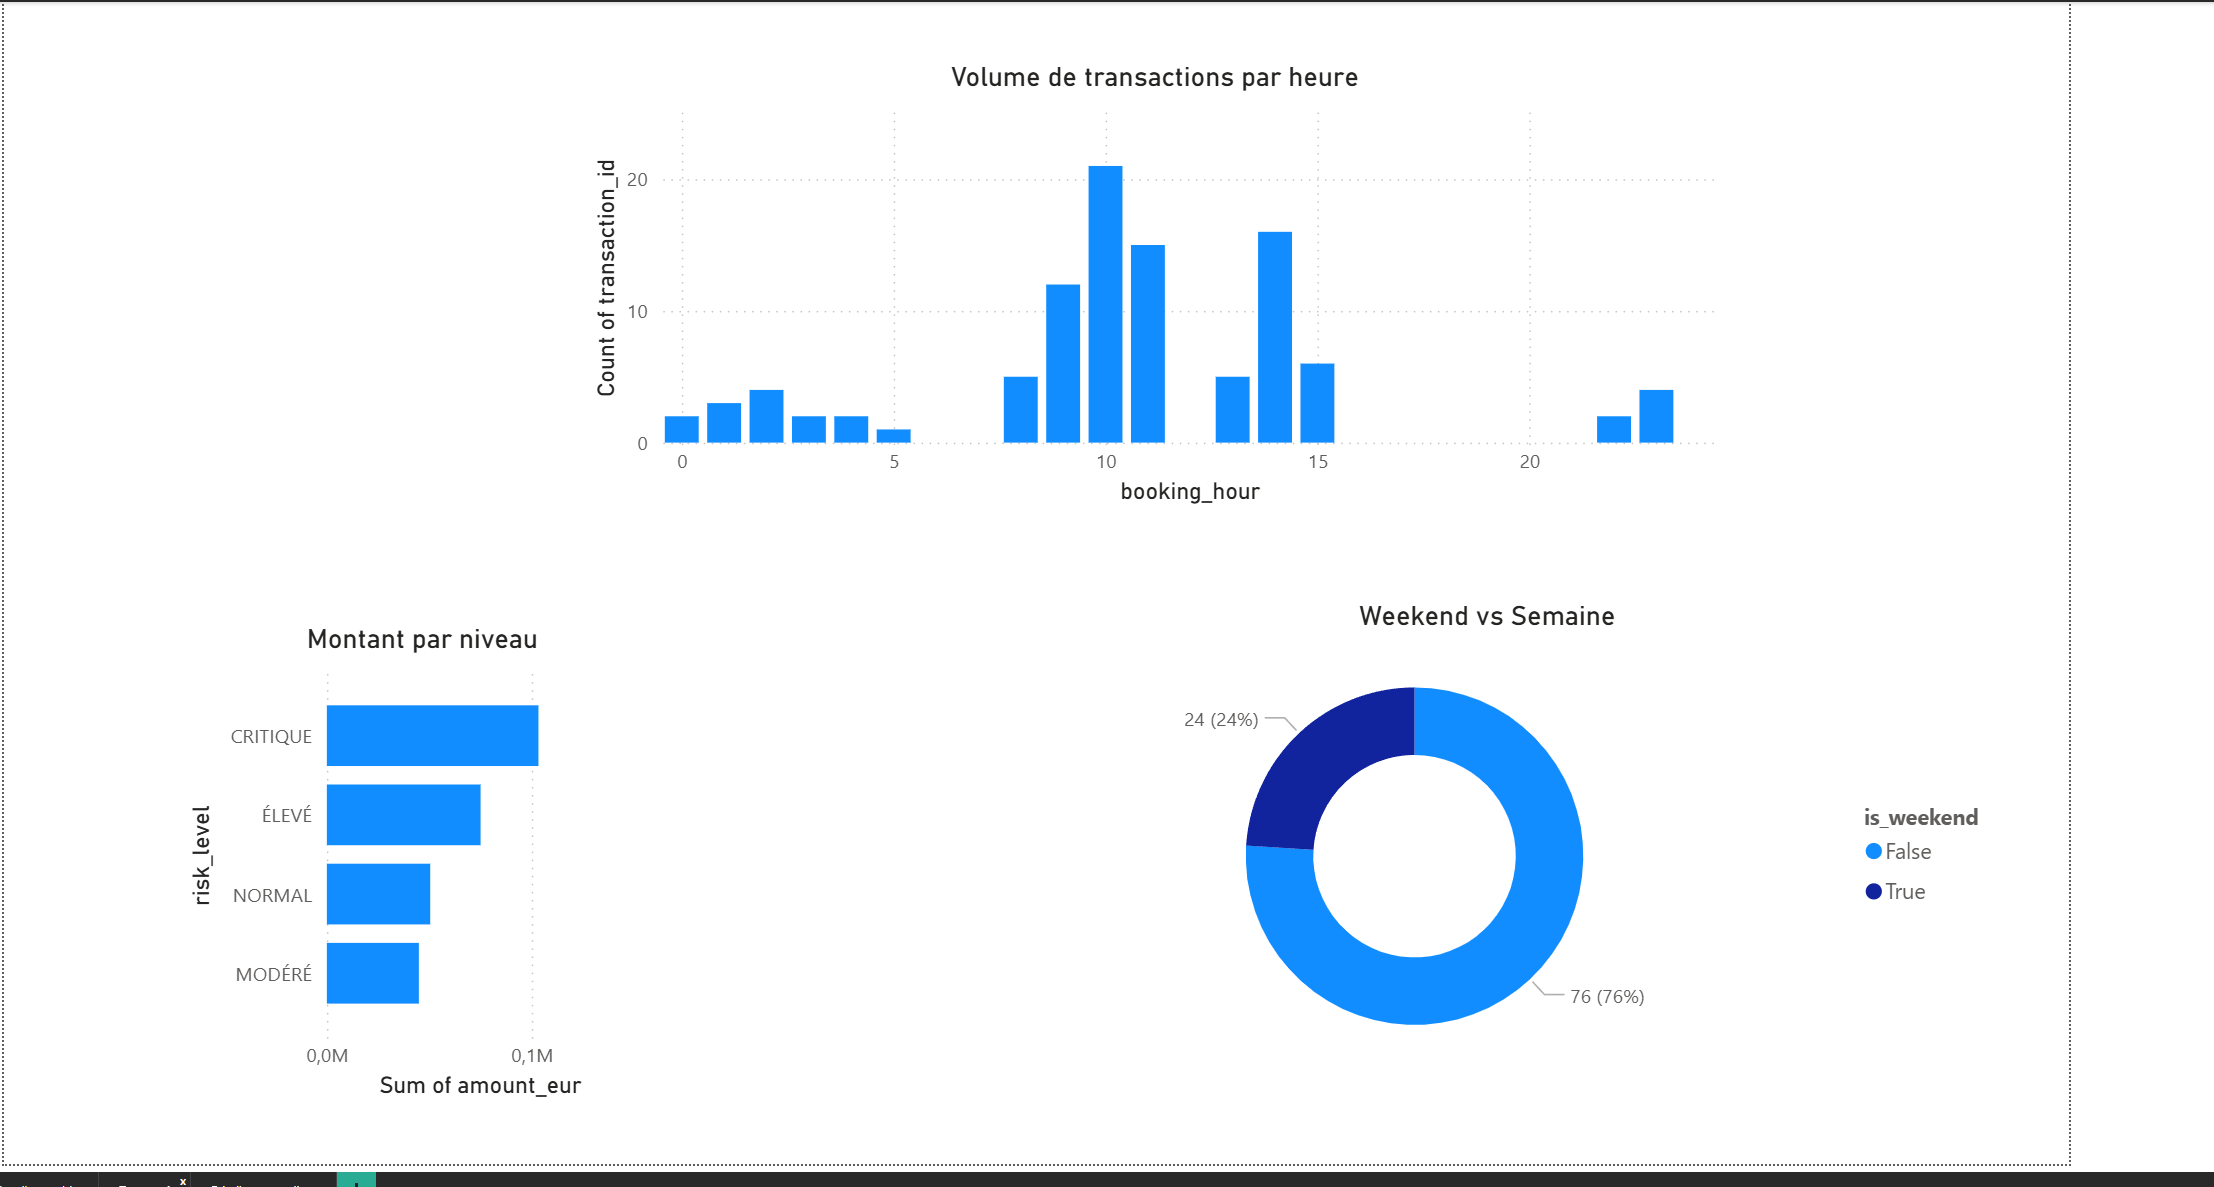

Layout of this report page (visuals, bound fields, positions):
{"tool":"powerbi","page":{"name":"Temporel","canvas":[1280,720],"ordinal":1},"visuals":[{"type":"clusteredColumnChart","title":"Volume de transactions par heure","fields":{"Category":["vw_risk_dashboard.booking_hour"],"Y":["CountNonNull(vw_risk_dashboard.transaction_id)"]},"box":[359.9,36,706.1,280.1],"z":0},{"type":"clusteredBarChart","title":"Montant par niveau","fields":{"Category":["vw_risk_dashboard.risk_level"],"Y":["Sum(vw_risk_dashboard.amount_eur)"]},"box":[109.3,384.1,300.4,299.7],"z":1000},{"type":"donutChart","title":"Weekend vs Semaine","fields":{"Category":["vw_risk_dashboard.is_weekend"],"Y":["CountNonNull(vw_risk_dashboard.transaction_id)"]},"box":[590.3,369.7,657,299.7],"z":2000}]}

Visuals, with their boxes on the page's 1280x720 design canvas (x1, y1, x2, y2). These are canvas units, not pixel positions in the 2214x1187 screenshot, which may show the page scaled, cropped or inside an application window:
"Volume de transactions par heure" clusteredColumnChart: x1=360 y1=36 x2=1066 y2=316
"Montant par niveau" clusteredBarChart: x1=109 y1=384 x2=410 y2=684
"Weekend vs Semaine" donutChart: x1=590 y1=370 x2=1247 y2=669
